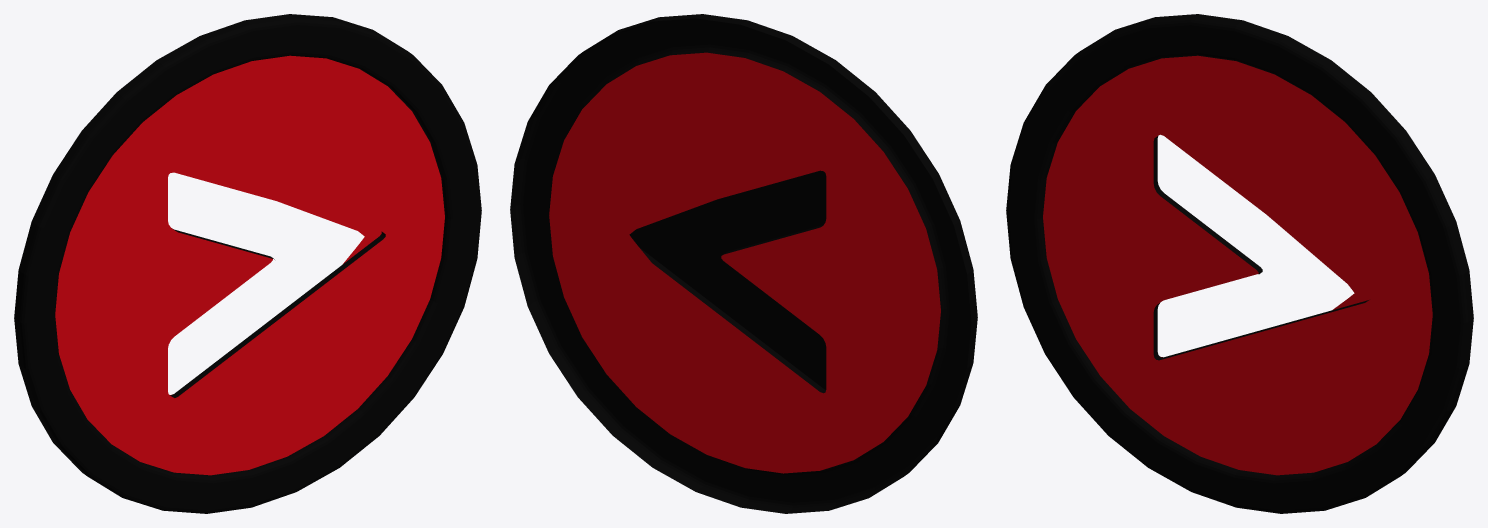
Rendered from speed_plus3.glb.
The picture shows the model from 3 angles, left to right: view 1: azimuth 30°, elevation 25°; view 2: azimuth 150°, elevation 25°; view 3: azimuth 330°, elevation 25°; orthographic projection.
Parts seen in each view (by area): view 1: Cylinder.001; view 2: Cylinder.001; view 3: Cylinder.001.
Boxes of the visible parts, left/top/right/bottom form: Cylinder.001: left=14, top=14, right=481, bottom=513; Cylinder.001: left=510, top=14, right=977, bottom=513; Cylinder.001: left=1006, top=14, right=1473, bottom=513.
Bounding box in the file's own units: 10.01 × 10.01 × 0.3097.
